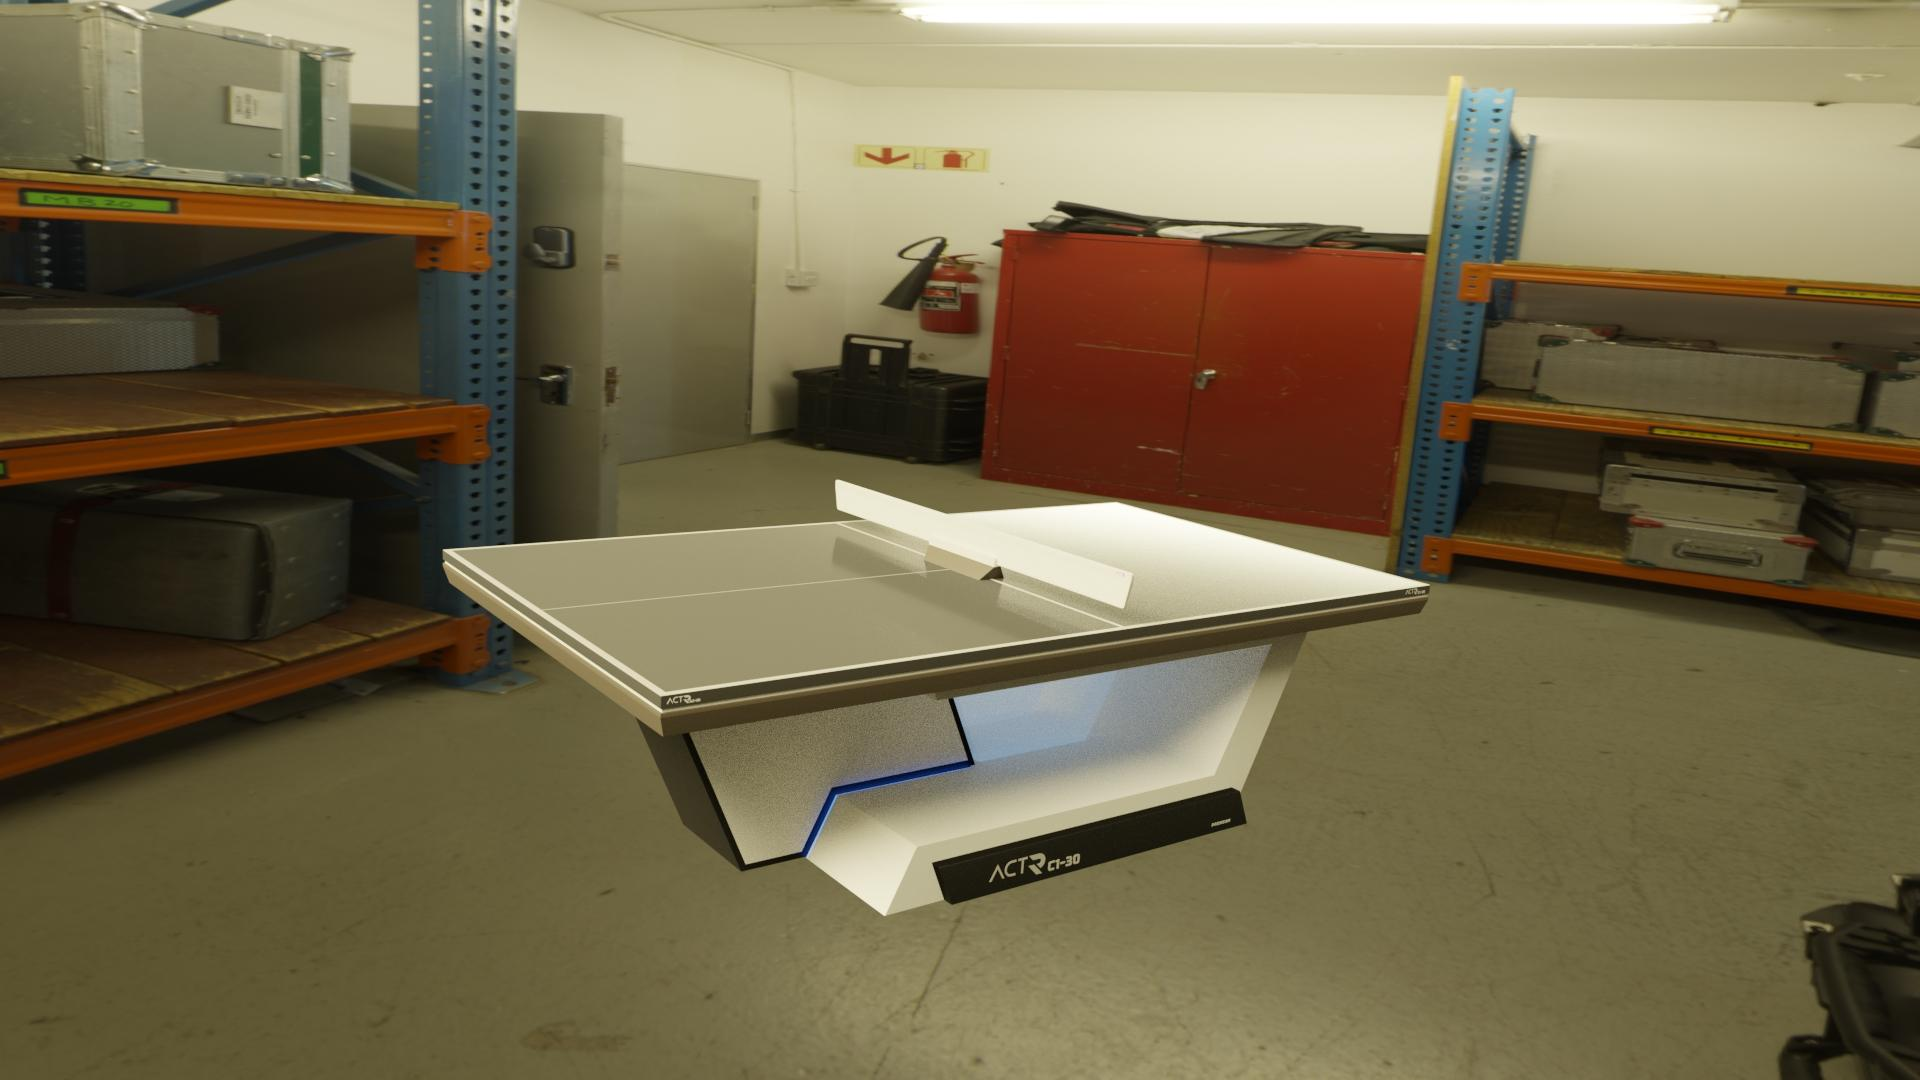table: (451, 504, 1422, 692)
